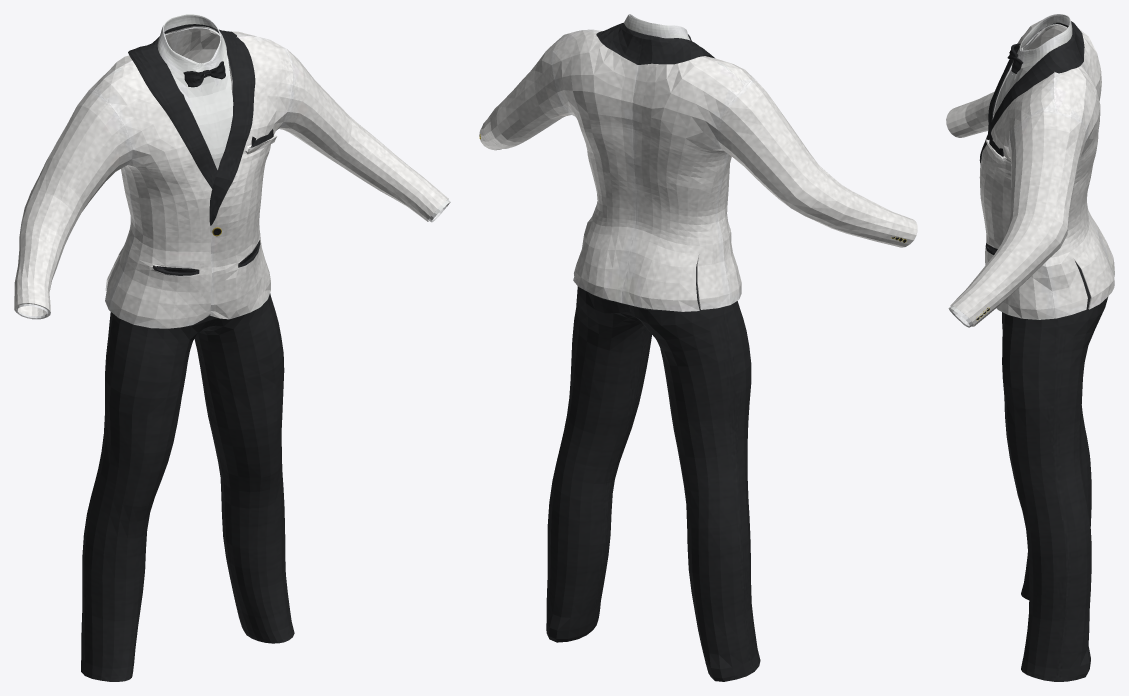
File: mhw_toigo_suit_with_dinner_jacket.glb
3 views of the same model, side by side, from view 1: azimuth 30°, elevation 25°; view 2: azimuth 150°, elevation 25°; view 3: azimuth 270°, elevation 25° (orthographic). The views are drawn at different scales.
Visible parts, largest first — view 1: mhw_toigo_suit_with_dinner_jacket; view 2: mhw_toigo_suit_with_dinner_jacket; view 3: mhw_toigo_suit_with_dinner_jacket.
Boxes of the visible parts, left/top/right/bottom form: mhw_toigo_suit_with_dinner_jacket: left=14, top=14, right=450, bottom=681; mhw_toigo_suit_with_dinner_jacket: left=479, top=14, right=917, bottom=681; mhw_toigo_suit_with_dinner_jacket: left=946, top=14, right=1114, bottom=681.
Bounding box in the file's own units: 1.11 × 1.55 × 0.3851.
1 material, 1 textured.
